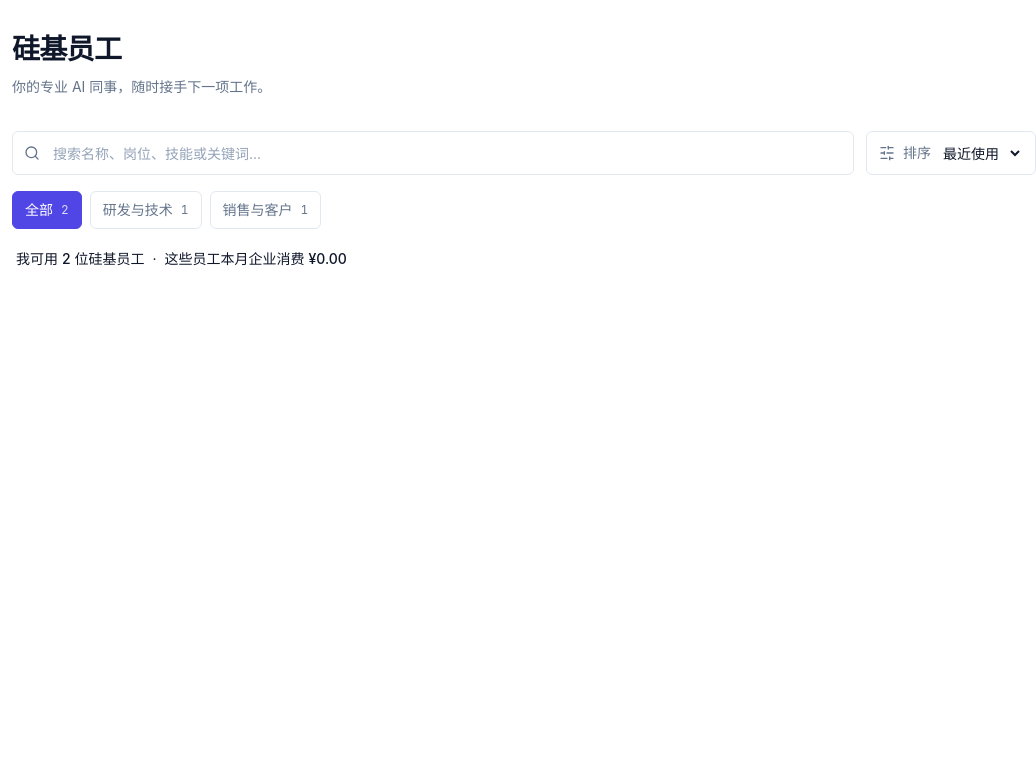
MyEmployeesPage › 可搜索技能、岗位、简介与名称：知识检索
Type "知识检索" into the field named "搜索硅基员工" at x=433, y=153, box left=12, top=131, right=854, bottom=175
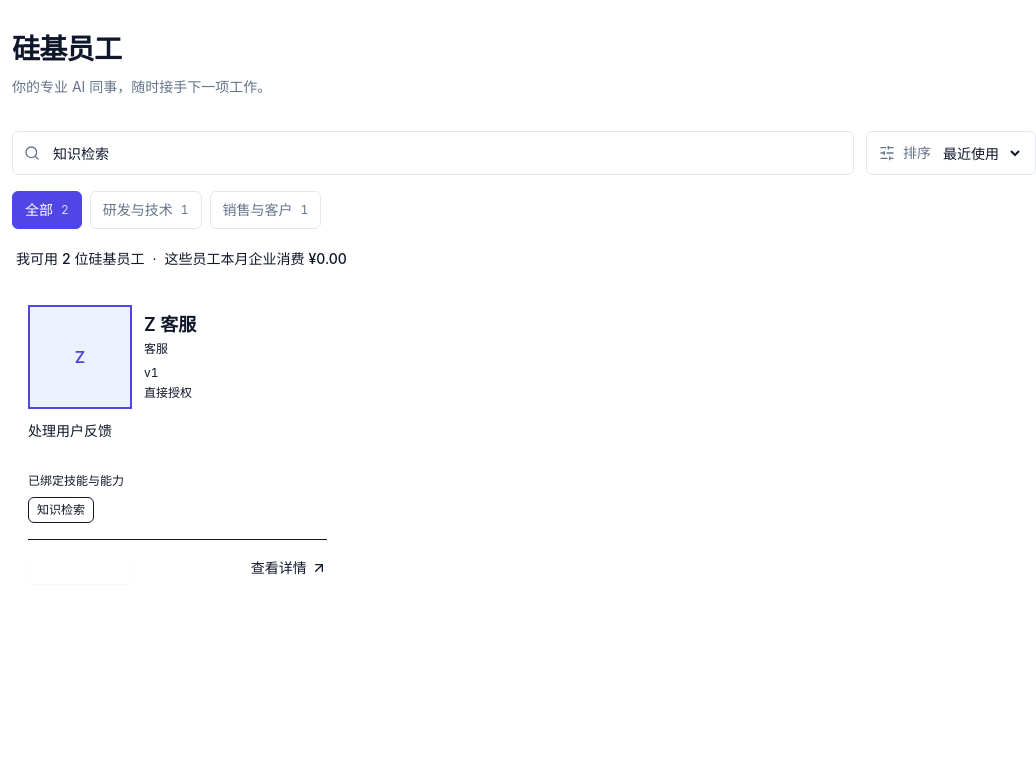
Now the heading "Z 客服" is shown, box left=144, top=314, right=196, bottom=335
